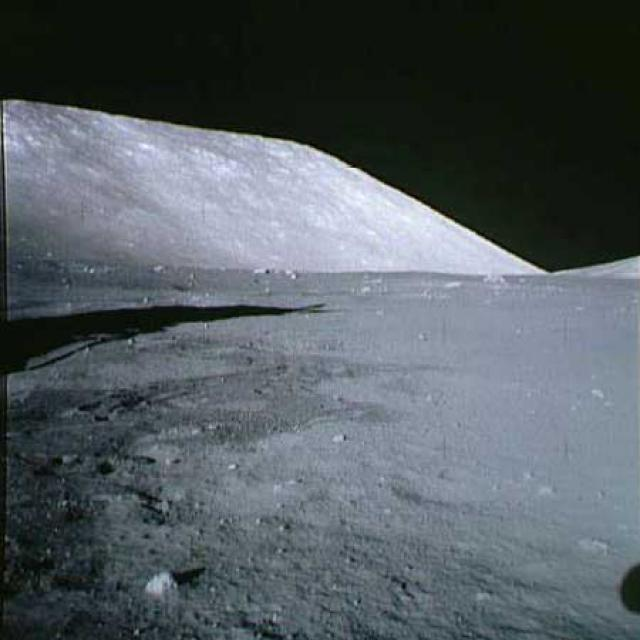crater: (376, 458, 544, 519)
rock: (127, 562, 189, 604)
